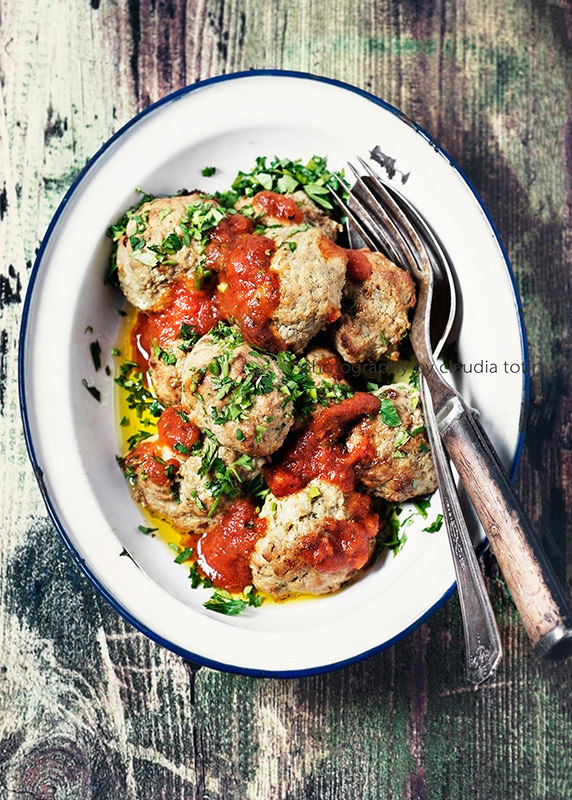meatballs: (172, 329, 303, 452)
